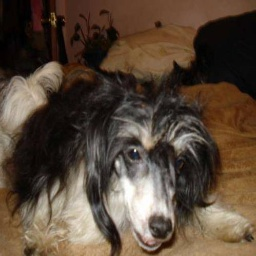dog: (13, 56, 249, 245)
